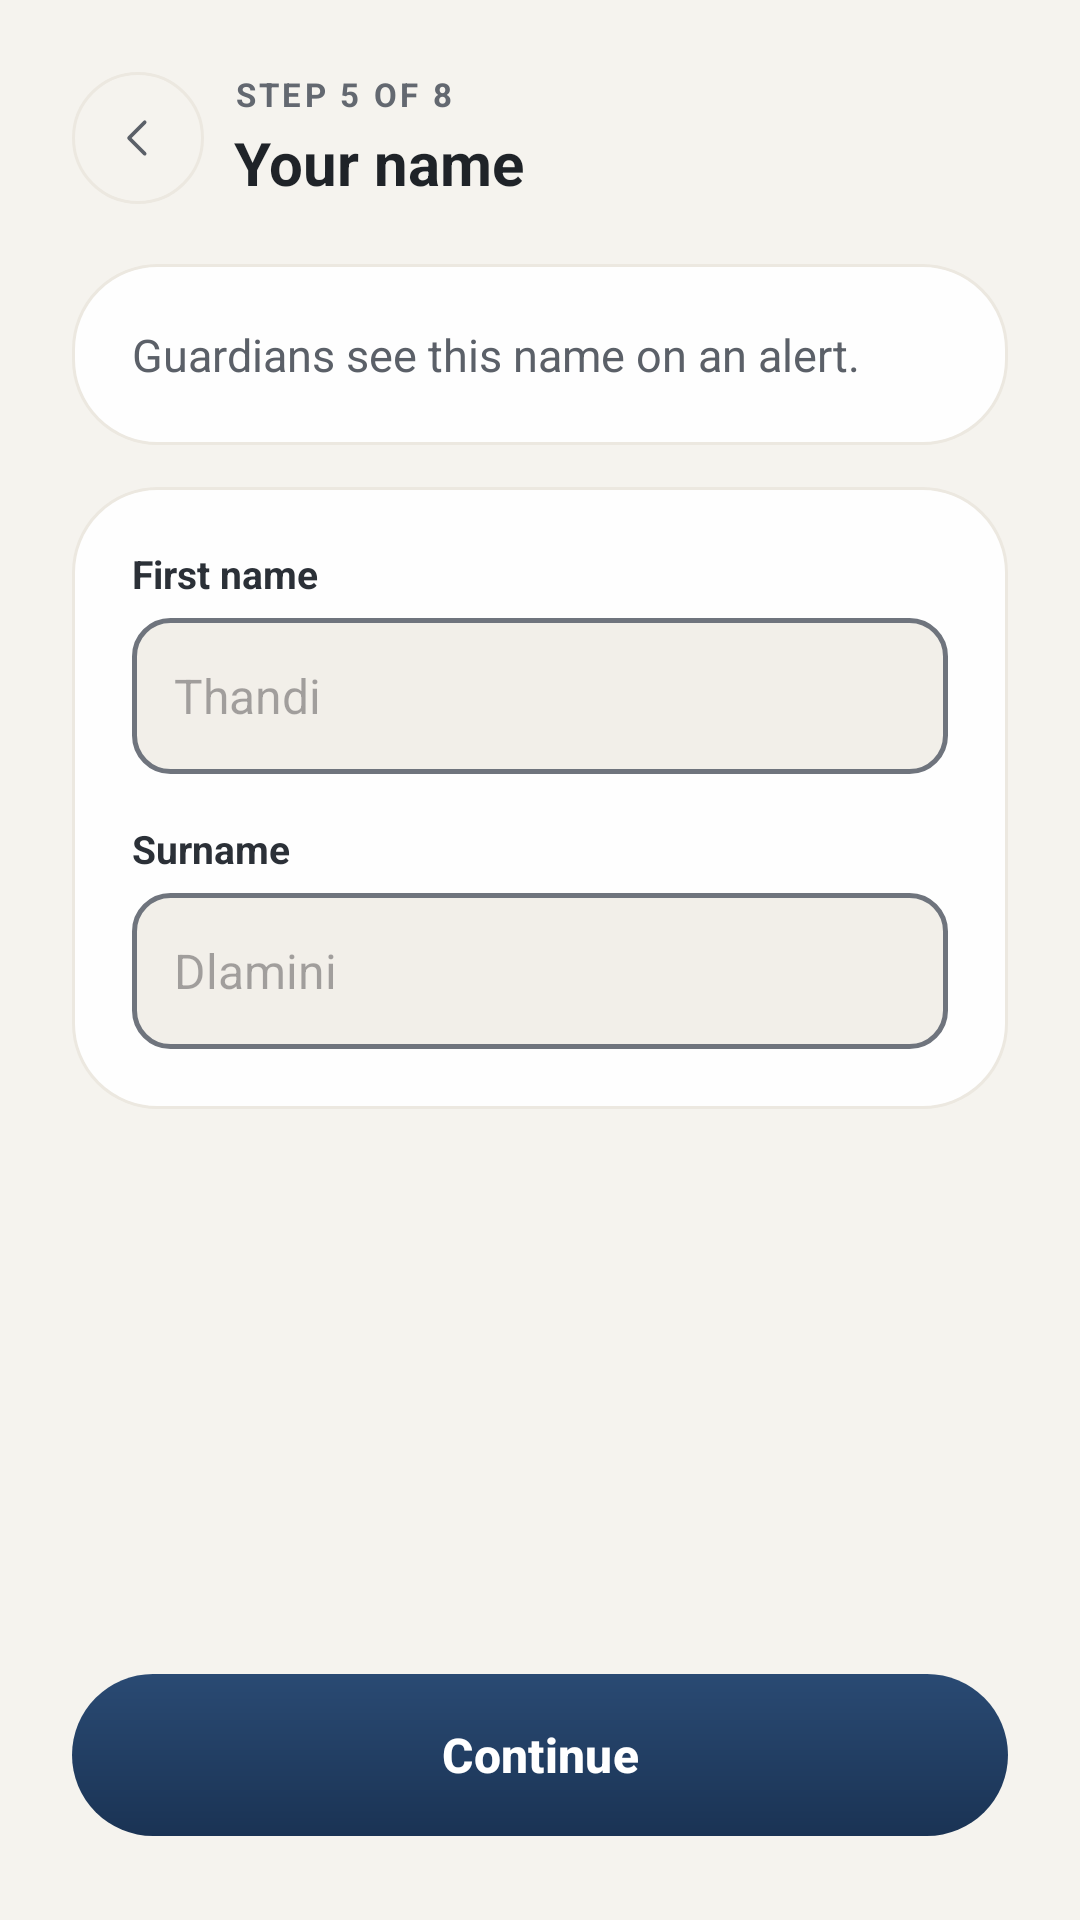

Icon bounding boxes for this 1080x1920 phone screenshot, format [left=x1, top=y1, right=x2, bottom=y2]:
Back: [left=127, top=120, right=147, bottom=156]
